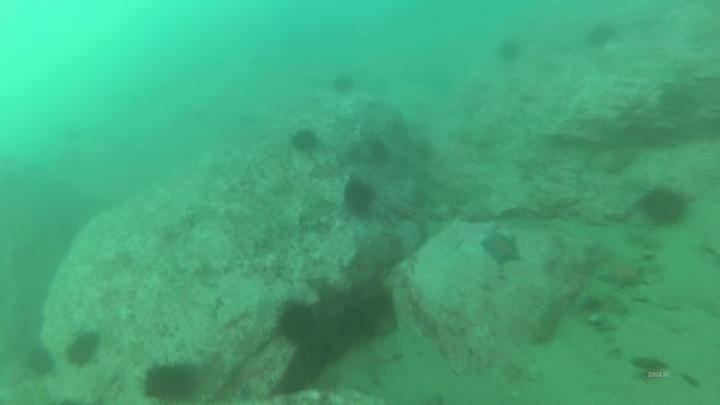echinus: (140, 360, 202, 403), (639, 185, 690, 229), (274, 298, 318, 344), (64, 329, 103, 369), (341, 176, 378, 218), (22, 345, 57, 380), (583, 20, 620, 51), (288, 126, 321, 155), (495, 36, 525, 64), (330, 72, 357, 96)
holothurian: (526, 286, 568, 348)
starfish: (596, 258, 651, 292), (478, 229, 524, 268)
